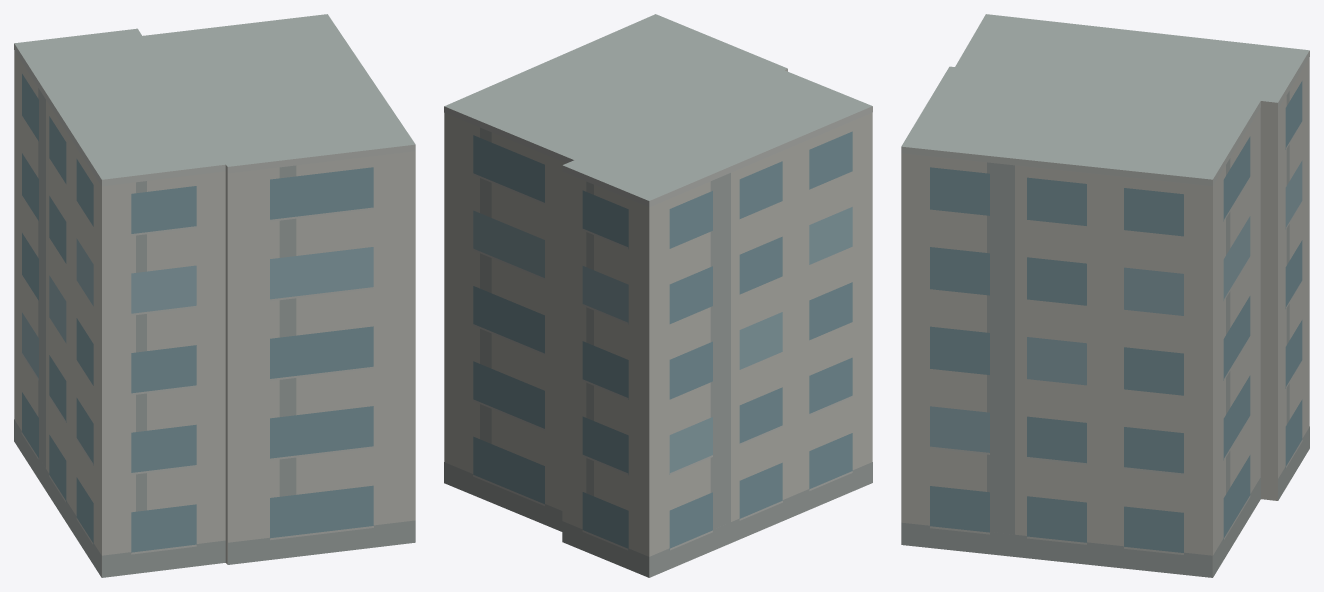
The model's file is survey-upis-32828623.glb.
The picture shows the model from 3 angles, left to right: view 1: azimuth 30°, elevation 25°; view 2: azimuth 150°, elevation 25°; view 3: azimuth 270°, elevation 25°; orthographic projection. The views are drawn at different scales.
Parts seen in each view (by area): view 1: survey-upis-32828623.tmp; view 2: survey-upis-32828623.tmp; view 3: survey-upis-32828623.tmp.
Boxes of the visible parts, x1,y1,x2,y2 form: survey-upis-32828623.tmp: (14, 14, 415, 577); survey-upis-32828623.tmp: (444, 14, 872, 577); survey-upis-32828623.tmp: (901, 14, 1309, 577).
Size of the model in its own units: 12.94 by 14.5 by 13.49.
